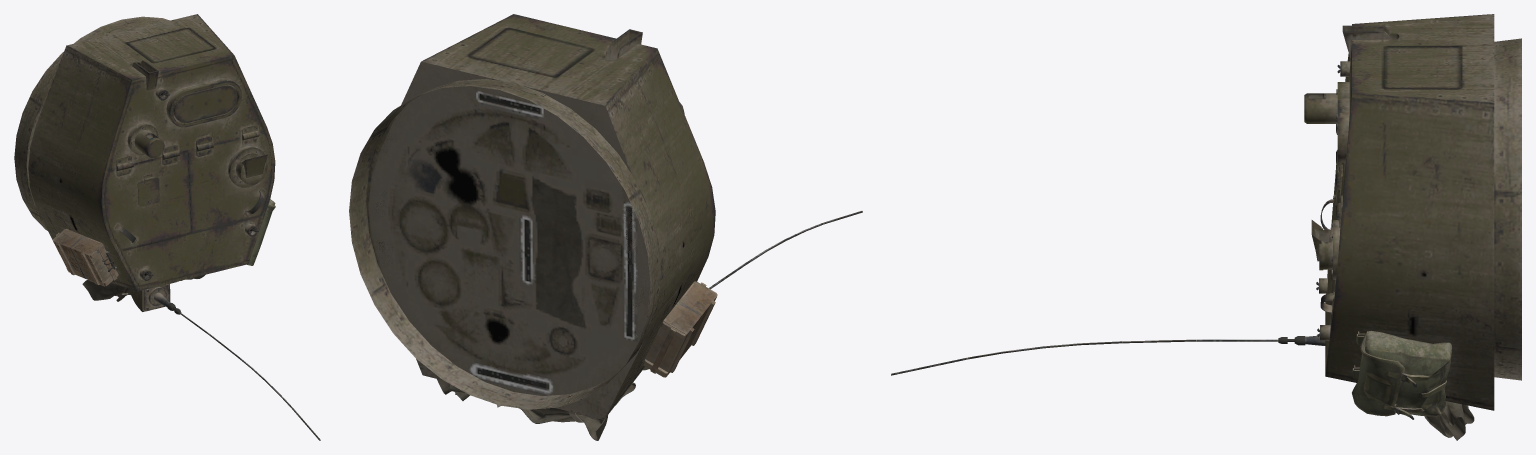
The model's file is Turret_02.glb.
3 renders of one model, left to right at view 1: azimuth 30°, elevation 25°; view 2: azimuth 150°, elevation 25°; view 3: azimuth 270°, elevation 25°, orthographic. The views are drawn at different scales.
Visible parts, largest first — view 1: set_0_group_0; view 2: set_0_group_0; view 3: set_0_group_0.
Boxes of the visible parts, x1=… form: set_0_group_0: x1=14, y1=14, x2=320, y2=440; set_0_group_0: x1=349, y1=14, x2=862, y2=440; set_0_group_0: x1=891, y1=14, x2=1521, y2=440.
Bounding box in the file's own units: 1.39 × 1.59 × 2.56.
Materials: 1 (1 with a texture image).
